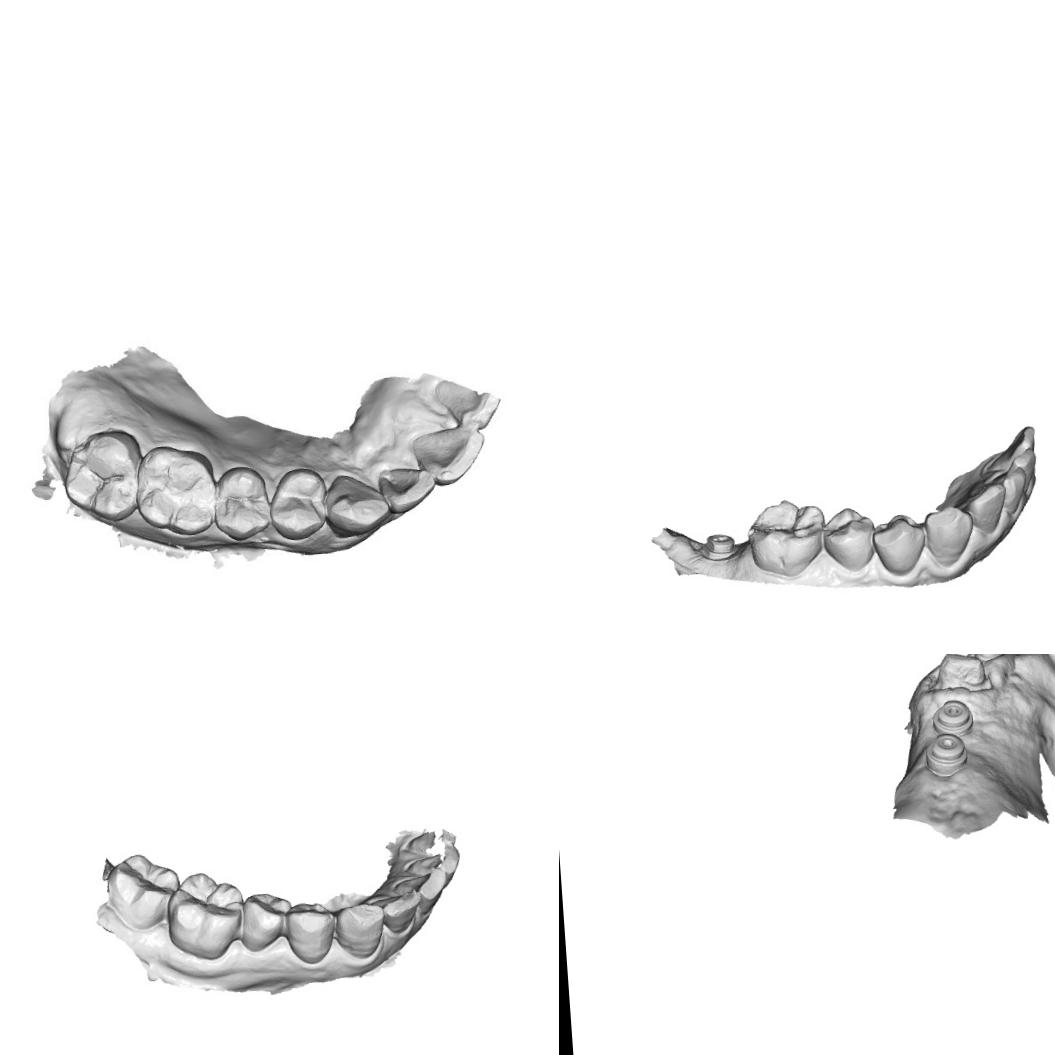canine: (324, 470, 390, 536), (332, 898, 390, 962), (921, 502, 975, 570)
implant: (919, 728, 971, 780), (928, 693, 976, 739), (968, 654, 1005, 664)
implant_minus: (700, 528, 741, 562)
incisor: (412, 426, 487, 487), (380, 463, 436, 514), (960, 478, 1008, 536), (390, 866, 450, 912), (366, 888, 424, 934), (981, 424, 1038, 470), (989, 466, 1028, 517), (1009, 446, 1038, 492)
molar: (162, 866, 248, 964), (742, 494, 828, 581), (102, 848, 184, 934), (62, 432, 140, 514), (136, 444, 210, 530)
premolar: (212, 464, 274, 537), (819, 503, 877, 574), (868, 511, 928, 579), (237, 886, 295, 955), (266, 468, 324, 536), (282, 897, 339, 966)
